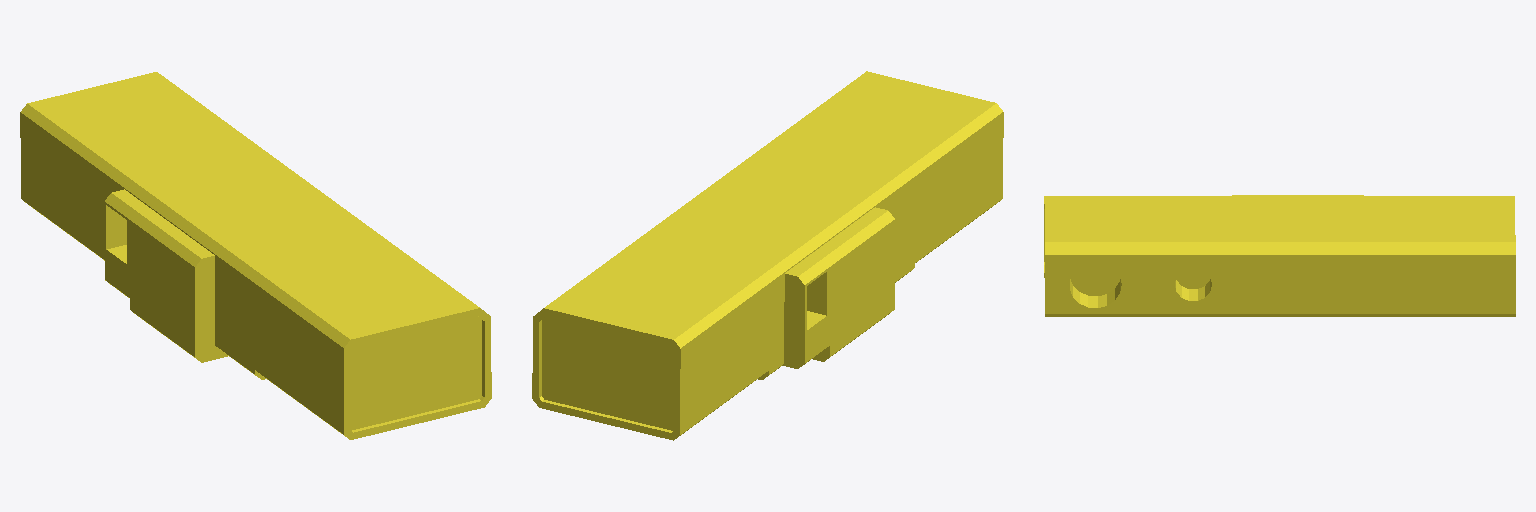
robot.urdf — kinect_test:
<?xml version="1.0" ?>
<!-- =================================================================================== -->
<!-- |    This document was autogenerated by xacro from kinect_test.xacro              | -->
<!-- |    EDITING THIS FILE BY HAND IS NOT RECOMMENDED                                 | -->
<!-- =================================================================================== -->
<robot name="kinect_test" xmlns:xacro="http://www.ros.org/wiki/xacro">
  <link name="footprint"/>
  <!-- Kinect sensor URDF part, cf. https://github.com/turtlebot/turtlebot
        and there turtlebot_description/urdf/sensors/kinect.xacro -->
  <joint name="kinect2_rgb_joint" type="fixed">
    <parent link="footprint"/>
    <child link="kinect2_rgb_frame"/>
    <origin rpy="0 0 0" xyz="0.0 0.0 0.0"/>
  </joint>
  <link name="kinect2_rgb_frame"/>
  <joint name="kinect2_rgb_optical_joint" type="fixed">
    <parent link="kinect2_rgb_frame"/>
    <child link="kinect2_rgb_optical_frame"/>
    <origin rpy="-1.57 0 -1.57" xyz="0 0 0"/>
  </joint>
  <link name="kinect2_rgb_optical_frame"/>
  <joint name="kinect2_joint" type="fixed">
    <parent link="kinect2_rgb_frame"/>
    <child link="kinect2_link"/>
    <origin rpy="0 0 0" xyz="0 -0.0125 -0.016"/>
  </joint>
  <link name="kinect2_link">
    <visual>
      <geometry>
        <mesh filename="package://kinect_description/meshes/sensors/kinect2.stl" scale="0.001 0.001 0.001"/>
      </geometry>
      <origin rpy="-1.57 0 -1.57" xyz="0 0 0"/>
      <material name="black"/>
    </visual>
    <collision>
      <geometry>
        <box size=".1 .3 .1"/>
      </geometry>
      <contact_coefficients kd="1.0" kp="1000.0" mu="0"/>
    </collision>
    <inertial>
      <mass value="8.1"/>
      <inertia ixx="0.0675" ixy="0.0" ixz="0.0" iyy="0.0135" iyz="0.0" izz="0.0675"/>
    </inertial>
  </link>
  <joint name="kinect2_depth_joint" type="fixed">
    <parent link="kinect2_rgb_frame"/>
    <child link="kinect2_depth_frame"/>
    <origin rpy="0 0 0" xyz="0 -0.025 0"/>
  </joint>
  <link name="kinect2_depth_frame"/>
  <joint name="kinect2_depth_optical_joint" type="fixed">
    <parent link="kinect2_depth_frame"/>
    <child link="kinect2_depth_optical_frame"/>
    <origin rpy="-1.57 0 -1.57" xyz="0 0 0"/>
  </joint>
  <link name="kinect2_depth_optical_frame"/>
  <!-- Not sure why in a macro arguments cannot be passed to an
        associated .gazebo.xacro file... -->
  <!-- See https://github.com/turtlebot/turtlebot and there
        turtlebot_description/urdf/turtlebot_gazebo.urdf.xacro -->
  <gazebo reference="kinect2_link">
    <sensor name="kinect2_sensor" type="depth">
      <always_on>true</always_on>
      <update_rate>30.0</update_rate>
      <camera>
        <horizontal_fov>1.22111111111</horizontal_fov>
        <image>
          <width>512</width>
          <height>424</height>
          <format>L8</format>
        </image>
        <clip>
          <near>0.1</near>
          <far>8.0</far>
        </clip>
        <noise>
          <!-- Noise is sampled independently per pixel on each frame.
                        That pixel's noise value is added to each of its color
                        channels, which at that point lie in the range [0,1]. -->
          <type>gaussian</type>
          <mean>0.0</mean>
          <stddev>0.05</stddev>
        </noise>
      </camera>
      <plugin filename="libgazebo_ros_openni_kinect.so" name="kinect2_sensor_controller">
        <cameraName>kinect2</cameraName>
        <alwaysOn>true</alwaysOn>
        <updateRate>30.0</updateRate>
        <imageTopicName>sd/image_ir_rect</imageTopicName>
        <depthImageTopicName>sd/image_depth_rect</depthImageTopicName>
        <pointCloudTopicName>sd/points</pointCloudTopicName>
        <cameraInfoTopicName>sd/camera_info</cameraInfoTopicName>
        <!--<depthImageCameraInfoTopicName>depth/camera_info</depthImageCameraInfoTopicName>-->
        <frameName>kinect2_depth_optical_frame</frameName>
        <pointCloudCutoff>0.5</pointCloudCutoff>
        <pointCloudCutoffMax>4.5</pointCloudCutoffMax>
        <baseline>0.1</baseline>
        <distortionK1>0.0</distortionK1>
        <distortionK2>0.0</distortionK2>
        <distortionK3>0.0</distortionK3>
        <distortionT1>0.0</distortionT1>
        <distortionT2>0.0</distortionT2>
        <robotNamespace>/</robotNamespace>
      </plugin>
    </sensor>
  </gazebo>
  <gazebo reference="kinect2_link">
    <sensor name="kinect2_camera" type="camera">
      <always_on>true</always_on>
      <update_rate>30.0</update_rate>
      <camera name="kinect2_camera">
        <horizontal_fov>1.22111111111</horizontal_fov>
        <image>
          <width>1920</width>
          <height>1080</height>
          <format>R8G8B8</format>
        </image>
        <clip>
          <near>0.02</near>
          <far>10.0</far>
        </clip>
        <noise>
          <!-- Noise is sampled independently per pixel on each frame.
                        That pixel's noise value is added to each of its color
                        channels, which at that point lie in the range [0,1]. -->
          <type>gaussian</type>
          <mean>0.0</mean>
          <stddev>0.002</stddev>
        </noise>
      </camera>
      <plugin filename="libgazebo_ros_camera.so" name="kinect2_camera_controller">
        <alwaysOn>true</alwaysOn>
        <update_rate>30.0</update_rate>
        <cameraName>kinect2</cameraName>
        <imageTopicName>hd/image_color_rect</imageTopicName>
        <cameraInfoTopicName>hd/camera_info</cameraInfoTopicName>
        <frameName>kinect2_rgb_optical_frame</frameName>
        <baseline>0.1</baseline>
        <distortionK1>0.0</distortionK1>
        <distortionK2>0.0</distortionK2>
        <distortionK3>0.0</distortionK3>
        <distortionT1>0.0</distortionT1>
        <distortionT2>0.0</distortionT2>
        <robotNamespace>/</robotNamespace>
      </plugin>
    </sensor>
  </gazebo>
</robot>

--- Render facts (derived) ---
3 views of the same robot in one strip: view 1: azimuth 30°, elevation 25°; view 2: azimuth 150°, elevation 25°; view 3: azimuth 270°, elevation 25° (orthographic).
Robot: kinect_test — 6 links, 5 joints (5 fixed); root link footprint; default pose: all joints at 0.
Links seen in each view (by area): view 1: kinect2_link; view 2: kinect2_link; view 3: kinect2_link.
Link boxes in pixels (box(x1,y1,x2,y2)): kinect2_link: box(20, 72, 491, 439); kinect2_link: box(532, 71, 1003, 440); kinect2_link: box(1044, 195, 1515, 316).
Bounding box of the posed robot: 0.0752 × 0.2501 × 0.0481 m (x, y, z).
1 mesh visuals loaded from 1 distinct referenced files (1 binary STL).